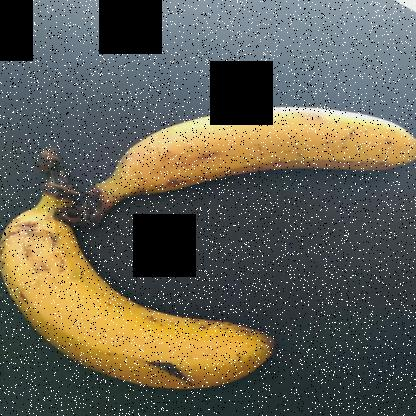ripe: (1, 193, 275, 387), (61, 90, 416, 207)
